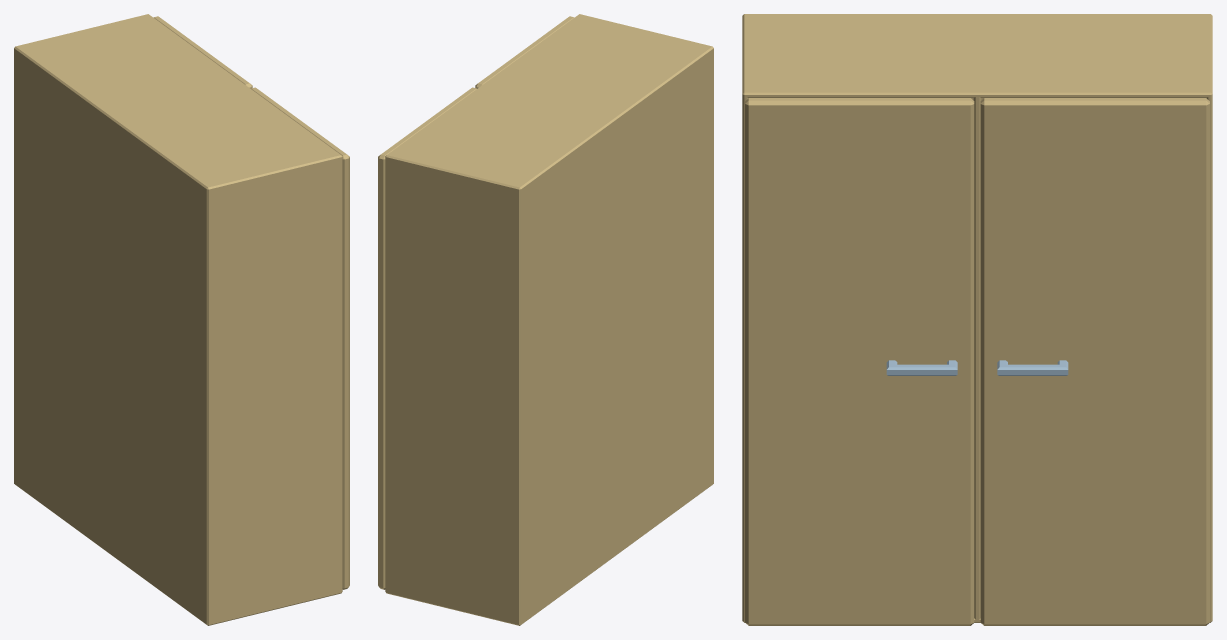
The model's file is SM_CupboardClosedOpen.fbx.
3 renders of one model, left to right at view 1: azimuth 30°, elevation 25°; view 2: azimuth 150°, elevation 25°; view 3: azimuth 270°, elevation 25°, orthographic. The views are drawn at different scales.
Parts seen in each view (by area): view 1: Cube.023; view 2: Cube.023; view 3: Cube.023.
Boxes of the visible parts, x1,y1,x2,y2 form: Cube.023: (14,14,349,625); Cube.023: (378,14,713,625); Cube.023: (742,14,1212,625).
Size of the model in its own units: 157 by 73.44 by 195.
